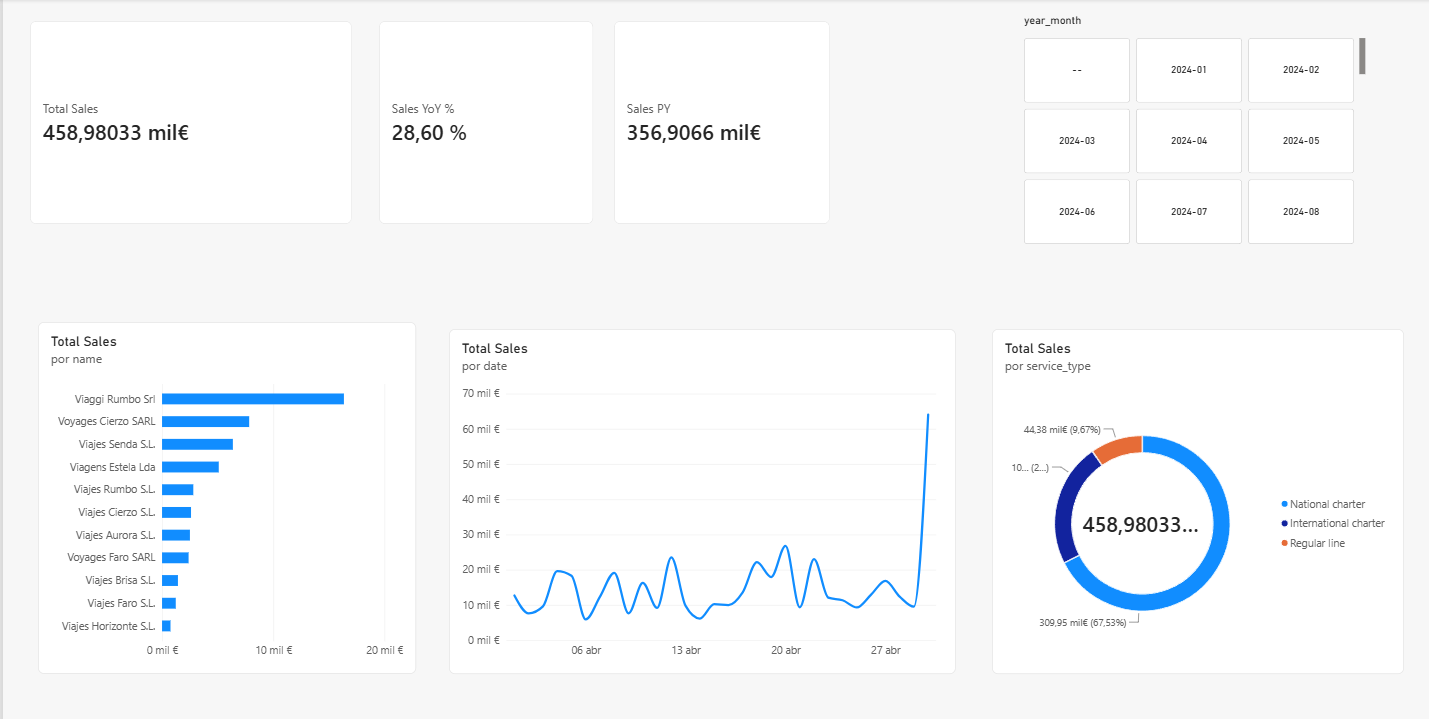

Layout of this report page (visuals, bound fields, positions):
{"tool":"powerbi","page":{"name":"Sales","canvas":[1920,1080],"ordinal":0},"visuals":[{"type":"cardVisual","fields":{"Data":["_Measures.Total Sales"]},"box":[35.9,29.3,428.3,270],"z":0},{"type":"cardVisual","fields":{"Data":["_Measures.Sales YoY %"]},"box":[500.1,29.3,286,270],"z":1000},{"type":"cardVisual","fields":{"Data":["_Measures.Sales PY"]},"box":[812.7,29.3,287.3,270],"z":2000},{"type":"lineChart","fields":{"Category":["dim_calendar.date"],"Y":["_Measures.Total Sales"]},"box":[593.2,438.9,674.3,458.9],"z":3000},{"type":"barChart","fields":{"Category":["dim_customer.name"],"Y":["_Measures.Total Sales"]},"box":[46.6,429.6,502.8,468.2],"z":4000},{"type":"donutChart","fields":{"Category":["dim_product.service_type"],"Y":["_Measures.Total Sales"]},"box":[1315.4,438.9,548,458.9],"z":5000},{"type":"advancedSlicerVisual","fields":{"Values":["dim_calendar.year_month"]},"box":[1358,20,454.9,308.6],"z":6000}]}

Visuals, with their boxes on the page's 1920x1080 design canvas (x1, y1, x2, y2). These are canvas units, not pixel positions in the 1429x719 screenshot, which may show the page scaled, cropped or inside an application window:
cardVisual - _Measures.Total Sales: l=36, t=29, r=464, b=299
cardVisual - _Measures.Sales YoY %: l=500, t=29, r=786, b=299
cardVisual - _Measures.Sales PY: l=813, t=29, r=1100, b=299
lineChart - dim_calendar.date x _Measures.Total Sales: l=593, t=439, r=1268, b=898
barChart - dim_customer.name x _Measures.Total Sales: l=47, t=430, r=549, b=898
donutChart - dim_product.service_type x _Measures.Total Sales: l=1315, t=439, r=1863, b=898
advancedSlicerVisual - dim_calendar.year_month: l=1358, t=20, r=1813, b=329
